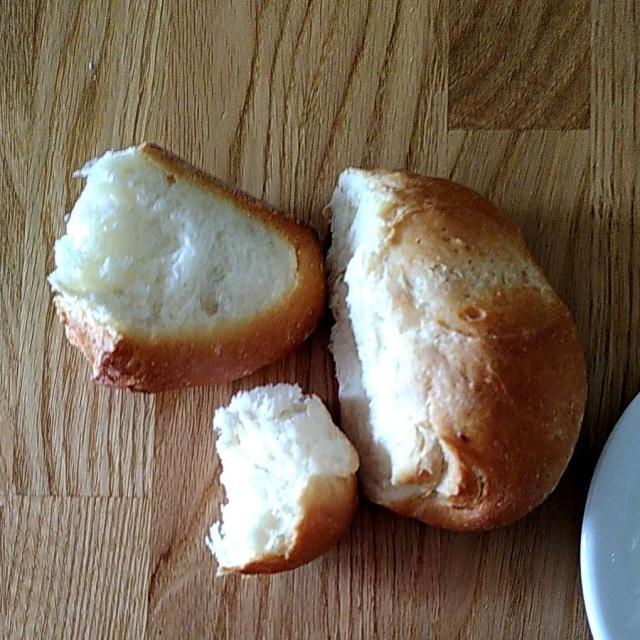bread: (39, 144, 574, 582)
